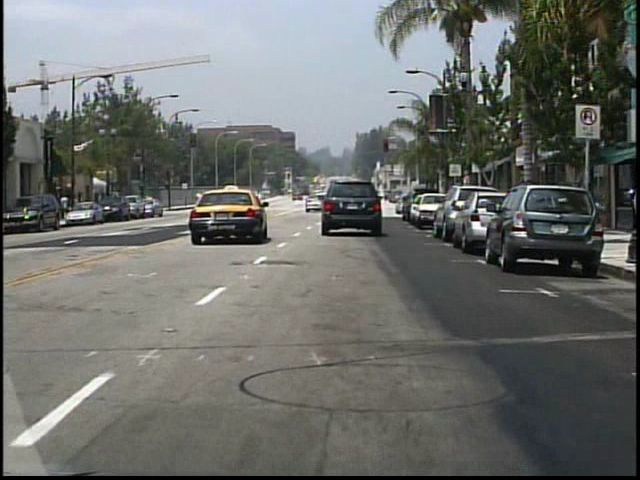person: (62, 193, 72, 221), (323, 191, 335, 213), (258, 190, 270, 211)
